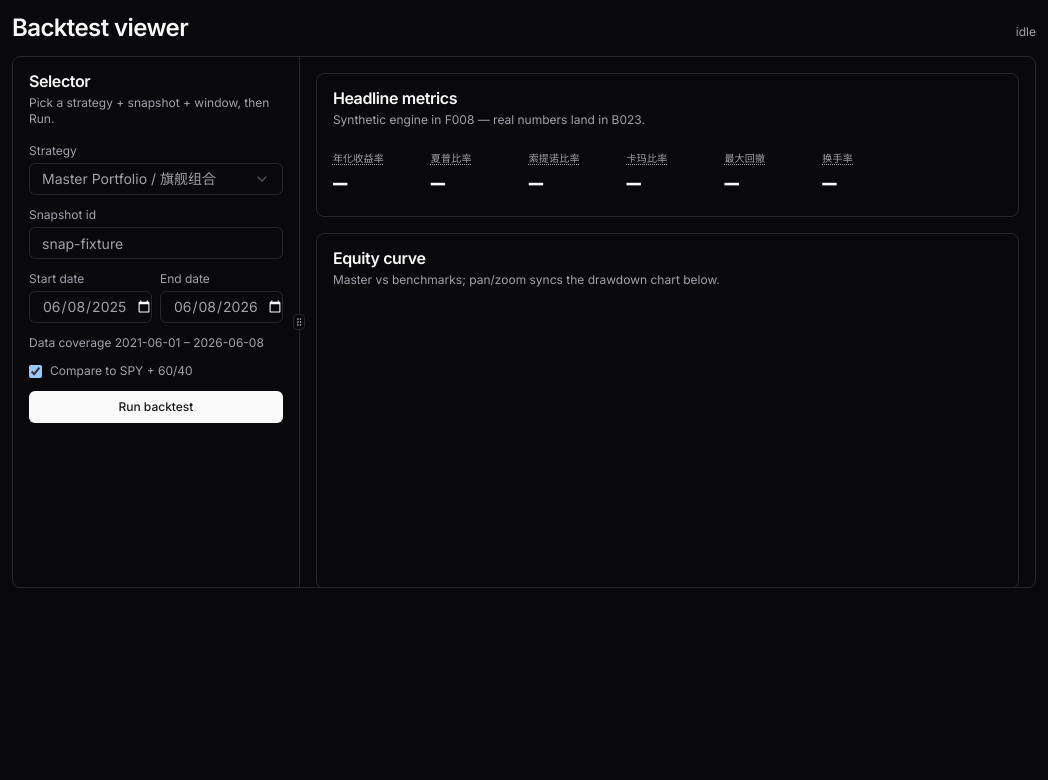
Test case: BacktestPage per-strategy dispatch (B050 F004) › labels the result with the strategy it ran (kills the 'all the same' ambiguity)
Click the button with test id "backtest-run" at (156, 407), box [29,391,283,423]
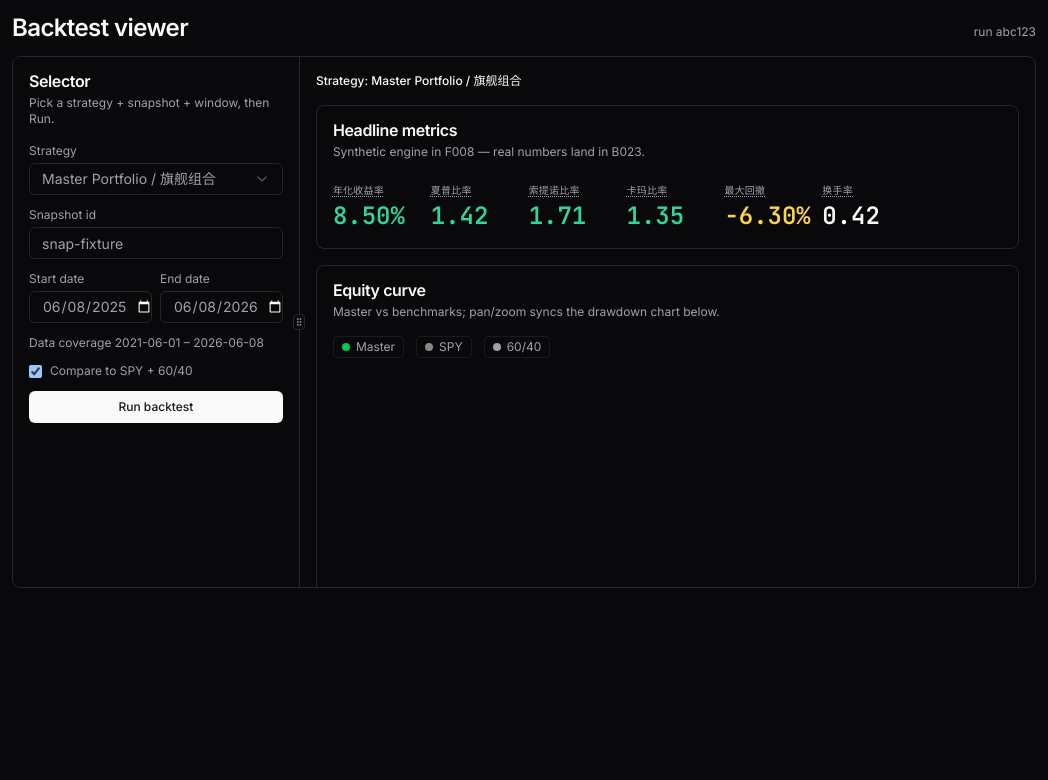
Expected: the text with test id "backtest-ran-strategy" shows "Strategy: Master Portfolio", [316,73,522,88]
